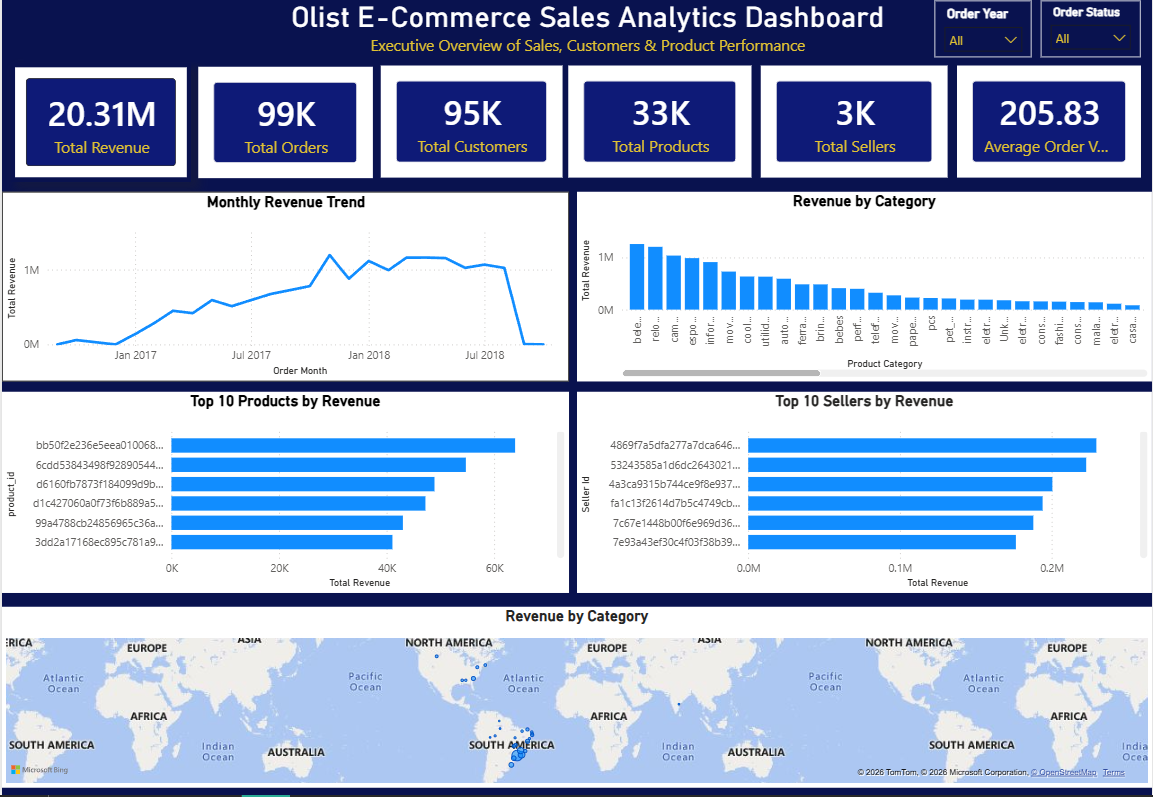

The dashboard page shown, as its layout file describes it:
{"tool":"powerbi","page":{"name":"Executive Dashboard","canvas":[1280,900],"ordinal":0},"visuals":[{"type":"cardVisual","fields":{"Data":["Sum(analytics vw_executive_kpi.total_revenue)"]},"box":[10,83,201,132],"z":0},{"type":"cardVisual","fields":{"Data":["Sum(analytics vw_executive_kpi.total_orders)"]},"box":[219,87,194,124],"z":1000},{"type":"cardVisual","fields":{"Data":["Sum(analytics vw_executive_kpi.total_customers)"]},"box":[421,86,202,125],"z":2000},{"type":"cardVisual","fields":{"Data":["Sum(analytics vw_executive_kpi.total_products)"]},"box":[631,86,204,125],"z":3000},{"type":"cardVisual","fields":{"Data":["Sum(analytics vw_executive_kpi.total_sellers)"]},"box":[844,86,208,125],"z":4000},{"type":"cardVisual","fields":{"Data":["Sum(analytics vw_executive_kpi.average_order_value)"]},"box":[1063,86,205,125],"z":5000},{"type":"lineChart","title":"Monthly Revenue Trend","fields":{"Y":["Sum(analytics vw_monthly_sales.total_revenue)"],"Category":["analytics vw_monthly_sales.order_month"]},"box":[0,227,631,211],"z":6000},{"type":"clusteredColumnChart","title":"Revenue by Category","fields":{"Category":["analytics vw_category_performance.product_category"],"Y":["Sum(analytics vw_category_performance.total_revenue)"]},"box":[640,228,640,211],"z":7000},{"type":"clusteredBarChart","title":"Top 10 Products by Revenue","fields":{"Category":["analytics vw_product_performance.product_id"],"Y":["Sum(analytics vw_product_performance.total_revenue)"]},"box":[0,450,631,224],"z":8000},{"type":"clusteredBarChart","title":"Top 10 Sellers by Revenue","fields":{"Category":["analytics vw_seller_performance.seller_id"],"Y":["Sum(analytics vw_seller_performance.total_revenue)"]},"box":[640,450,640,224],"z":9000},{"type":"map","title":"Revenue by Category","fields":{"Category":["analytics vw_customer_performance.customer_state"],"Size":["Sum(analytics vw_customer_performance.total_revenue)"]},"box":[0,689,1280,201],"z":10000},{"type":"textbox","title":"Olist E-Commerce Sales Analytics Dashboard","box":[23,13,1257,70],"z":11000},{"type":"slicer","fields":{"Values":["analytics vw_monthly_sales.order_month.Variation.Date Hierarchy.Year"]},"box":[1038,14,108,63],"z":12000},{"type":"slicer","fields":{"Values":["analytics vw_delivery_performance.order_status"]},"box":[1157,14,111,63],"z":13000}]}

Visuals, with their boxes in screenshot pixels (x1, y1, x2, y2), scaled from the page's 1280x900 canvas onto the 1153x797 screenshot:
cardVisual - Sum(analytics vw_executive_kpi.total_revenue): x1=9 y1=74 x2=190 y2=190
cardVisual - Sum(analytics vw_executive_kpi.total_orders): x1=197 y1=77 x2=372 y2=187
cardVisual - Sum(analytics vw_executive_kpi.total_customers): x1=379 y1=76 x2=561 y2=187
cardVisual - Sum(analytics vw_executive_kpi.total_products): x1=568 y1=76 x2=752 y2=187
cardVisual - Sum(analytics vw_executive_kpi.total_sellers): x1=760 y1=76 x2=948 y2=187
cardVisual - Sum(analytics vw_executive_kpi.average_order_value): x1=958 y1=76 x2=1142 y2=187
"Monthly Revenue Trend" lineChart: x1=0 y1=201 x2=568 y2=388
"Revenue by Category" clusteredColumnChart: x1=576 y1=202 x2=1152 y2=389
"Top 10 Products by Revenue" clusteredBarChart: x1=0 y1=398 x2=568 y2=597
"Top 10 Sellers by Revenue" clusteredBarChart: x1=576 y1=398 x2=1152 y2=597
"Revenue by Category" map: x1=0 y1=610 x2=1152 y2=788
"Olist E-Commerce Sales Analytics Dashboard" textbox: x1=21 y1=12 x2=1152 y2=74
slicer - analytics vw_monthly_sales.order_month.Variation.Date Hierarchy.Year: x1=935 y1=12 x2=1032 y2=68
slicer - analytics vw_delivery_performance.order_status: x1=1042 y1=12 x2=1142 y2=68
